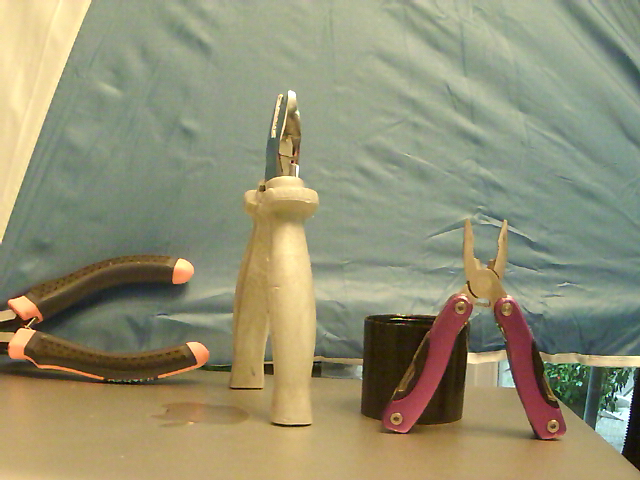pliers: (380, 217, 569, 441), (223, 82, 320, 431)
